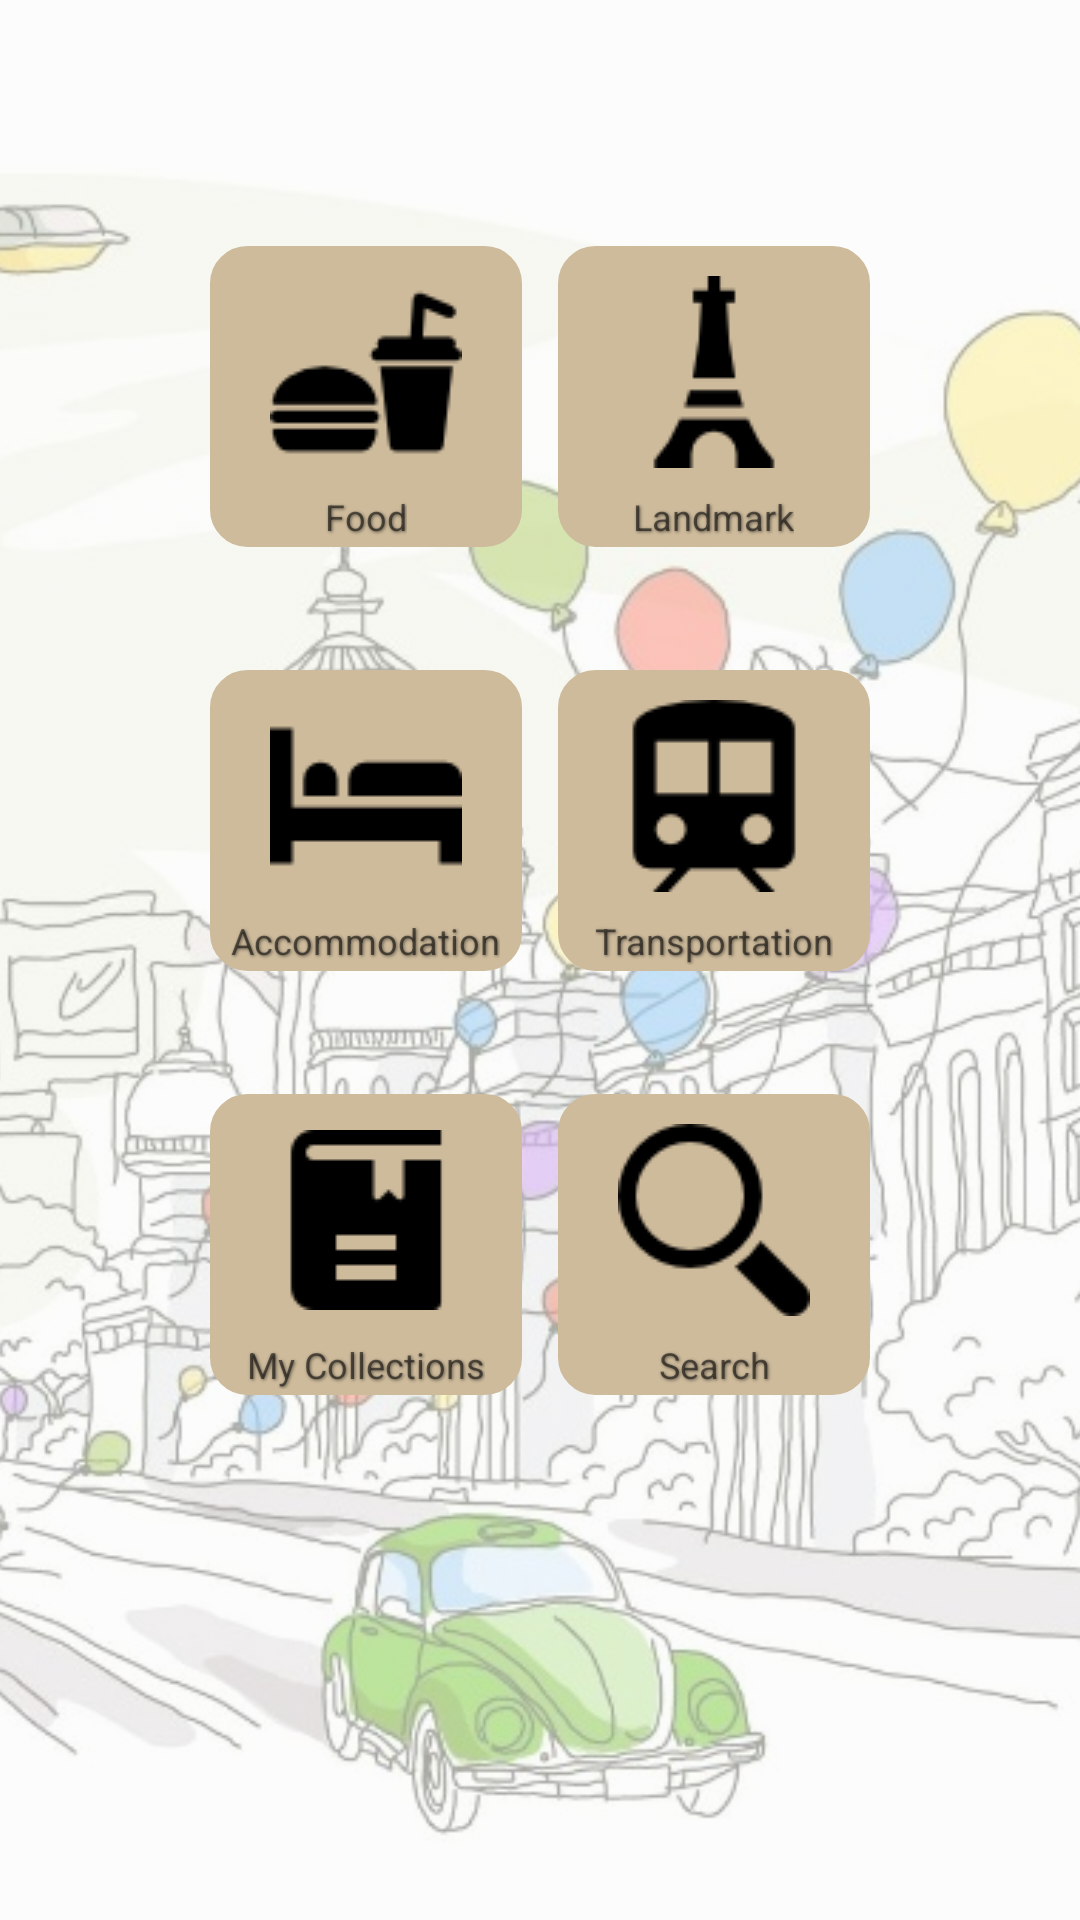

Named icons in this screenshot (1080 x 1920) and their centers, (x,y):
bed: (366,796)
book: (366,1220)
magnifier tool: (714,1220)
tower: (714,372)
train: (714,796)
